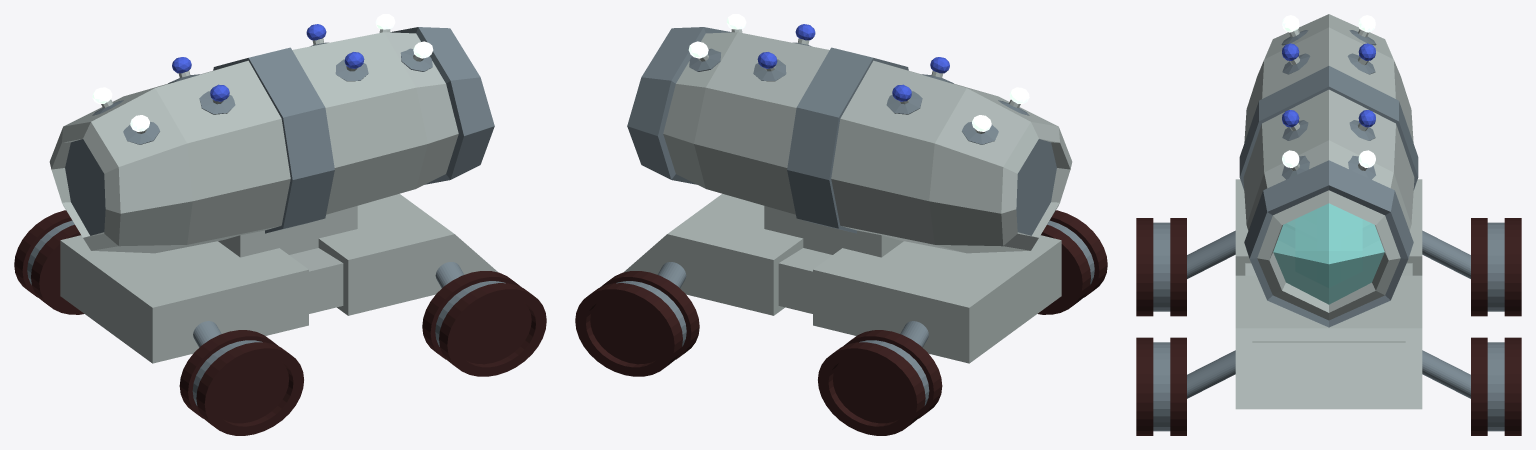
Rendered from Rover 2.fbx.
The picture shows the model from 3 angles, left to right: view 1: azimuth 30°, elevation 25°; view 2: azimuth 150°, elevation 25°; view 3: azimuth 270°, elevation 25°; orthographic projection.
Parts seen in each view (by area): view 1: Rover; view 2: Rover; view 3: Rover.
Part boxes in pixels (left/top/right/bottom): Rover: left=14, top=14, right=546, bottom=435; Rover: left=575, top=14, right=1107, bottom=435; Rover: left=1136, top=14, right=1521, bottom=435.
Size of the model in its own units: 356 by 250 by 303.
